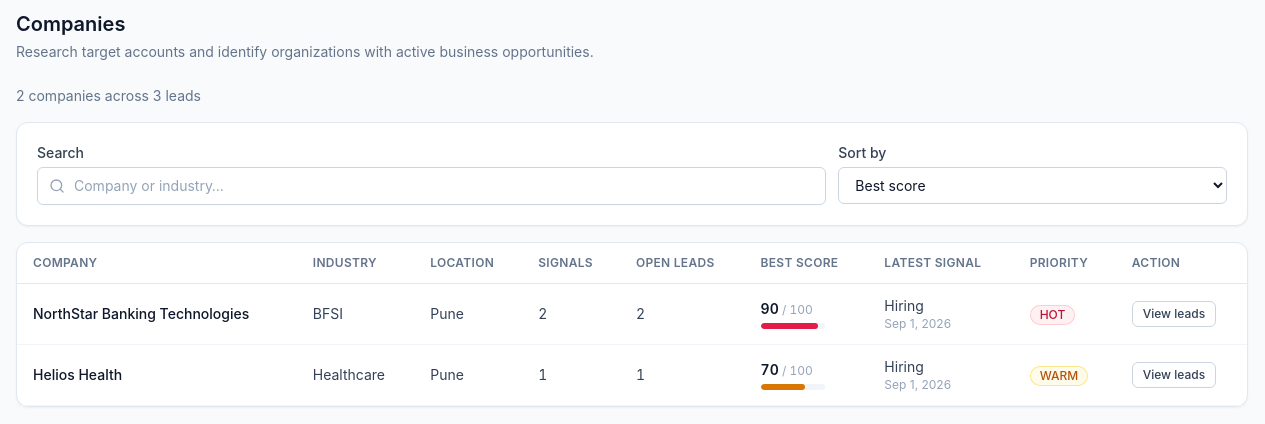
Scenario: CompaniesPage › filters companies by search
Expected: the text "NorthStar Banking Technologies" is shown, [33,305,249,322]
Type "helios" into the field labelled "Search".
click(432, 186); type("helios")  # box [37,167,826,205]
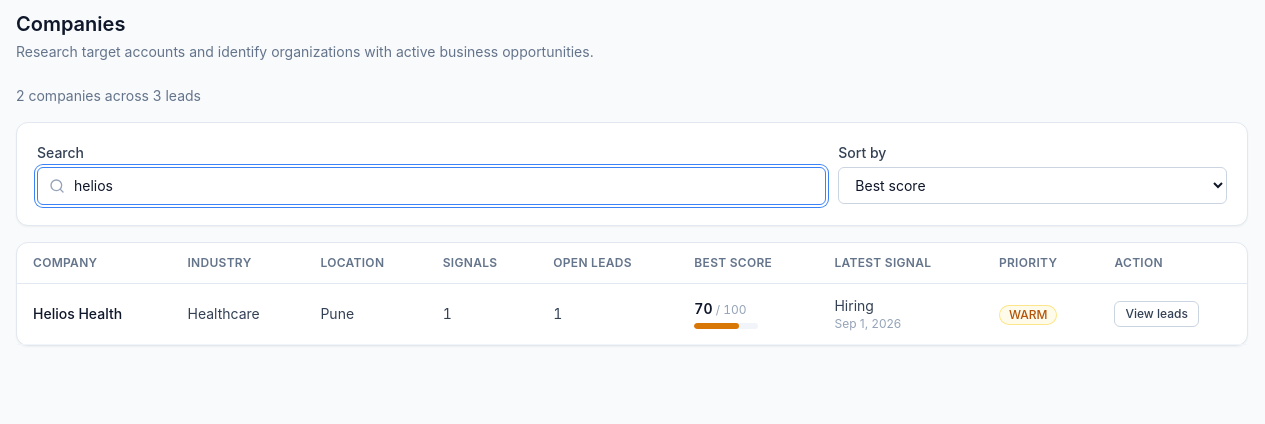
Expected: the text "Helios Health" is shown, [33,305,122,322]
Expected: the text "NorthStar Banking Technologies" is gone
